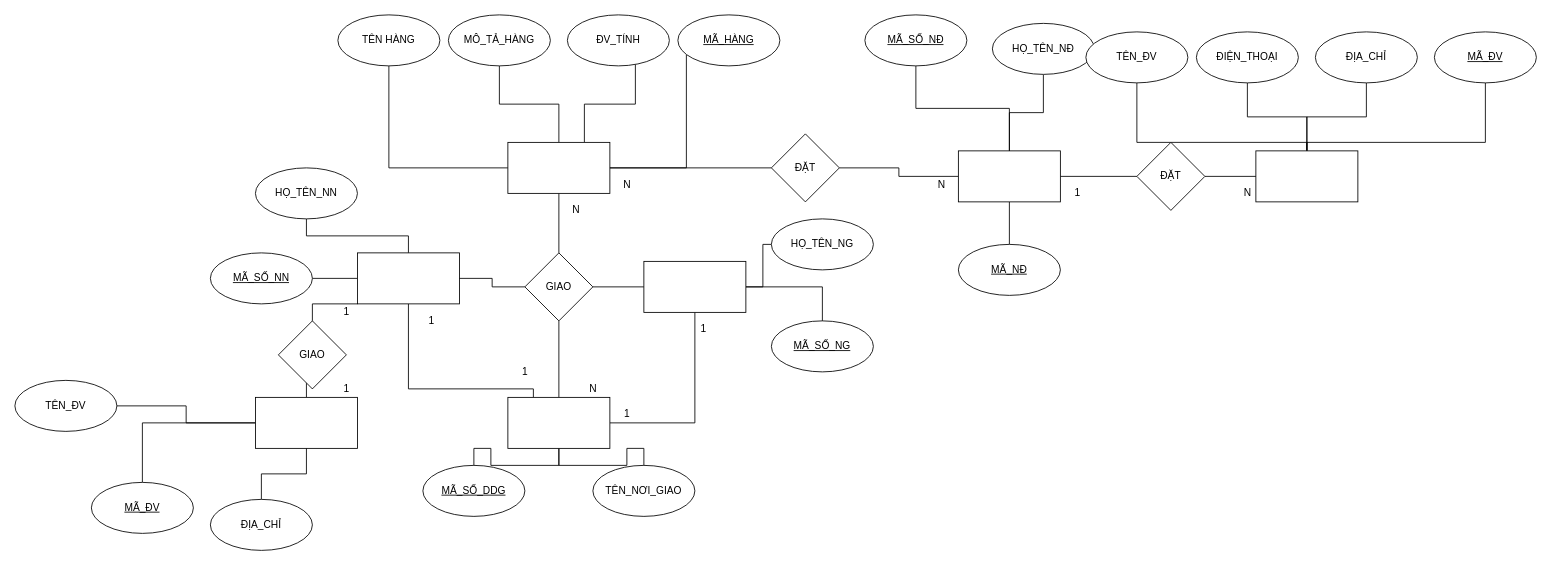
This 1551x565 diagram has some shape labels left out. Here are the shapes that lost their labels. From the top down, the centre of each, then its label:
the point at 558,167: HÀNG
the point at 1009,176: NGƯỜI_ĐẶT
the point at 1306,176: ĐƠN_VỊ_ĐH
the point at 408,278: NGƯỜI_NHẬN
the point at 694,286: NGƯỜI_GIAO
the point at 306,422: ĐƠN_VỊ_KH
the point at 558,422: NƠI_GIAO
